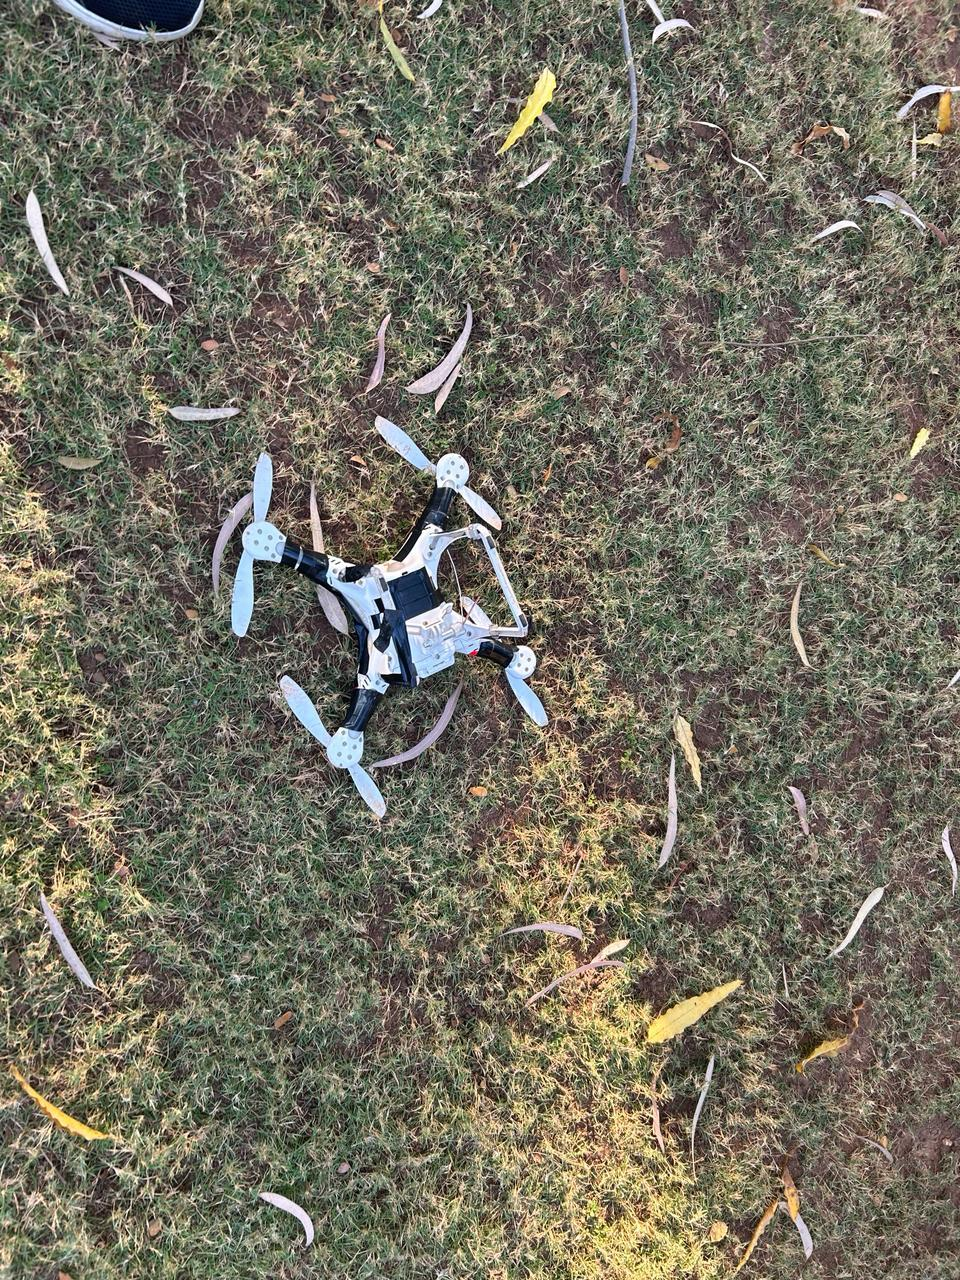drone: (145, 364, 550, 825)
